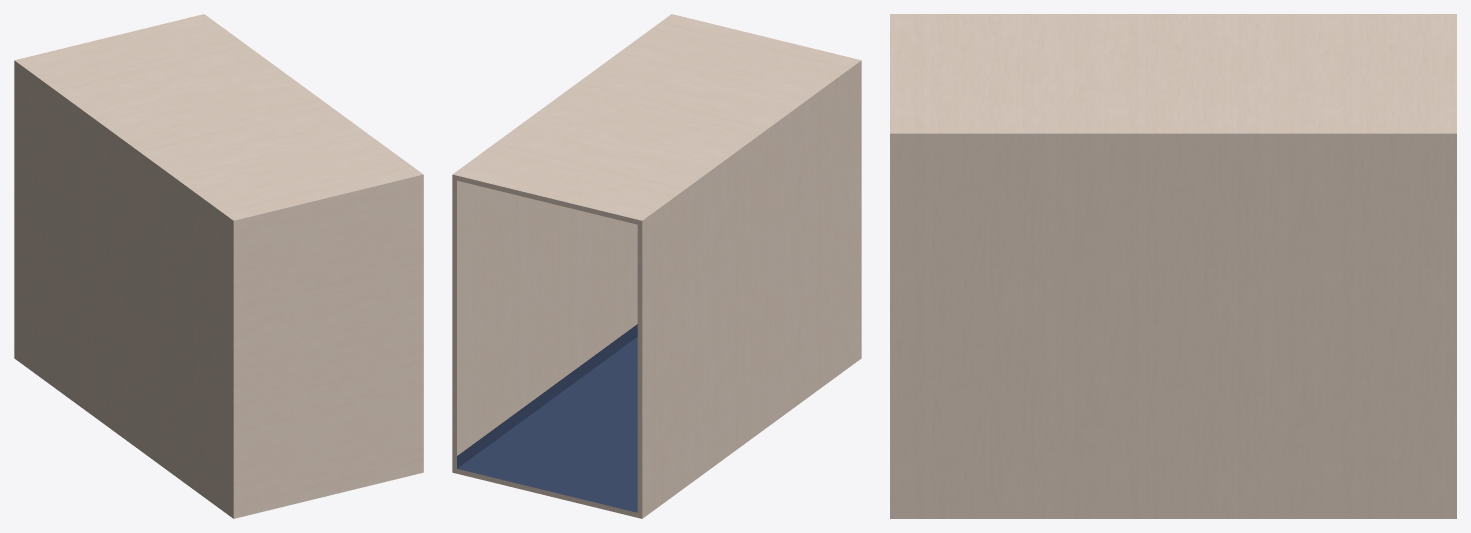
The model's file is corridor_cap.fbx.
3 renders of one model, left to right at view 1: azimuth 30°, elevation 25°; view 2: azimuth 150°, elevation 25°; view 3: azimuth 270°, elevation 25°, orthographic. The views are drawn at different scales.
Visible parts, largest first — view 1: corridor_cap; view 2: corridor_cap; view 3: corridor_cap.
Part boxes in pixels (bbox=[...]): corridor_cap: bbox=[14, 14, 423, 518]; corridor_cap: bbox=[452, 14, 861, 518]; corridor_cap: bbox=[890, 14, 1456, 518].
Bounding box in the file's own units: 200 × 300 × 400.
